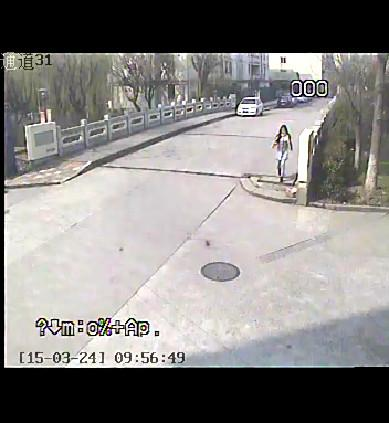person: (271, 123, 295, 186)
